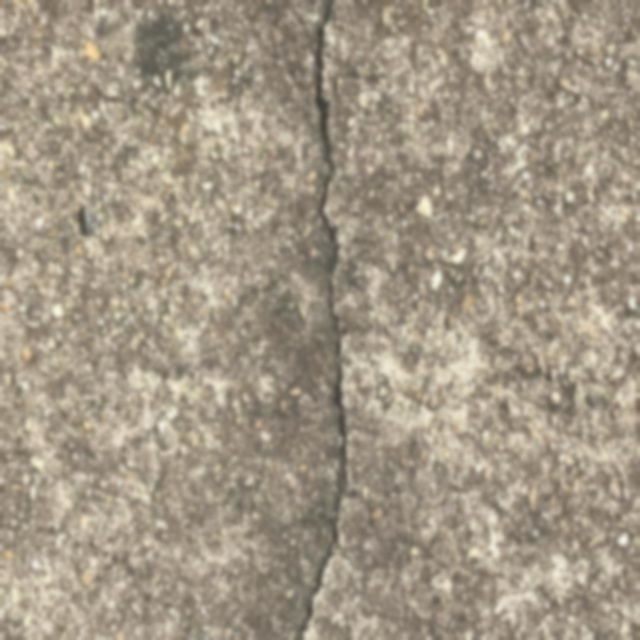SurfaceCrack: (241, 1, 416, 639)
